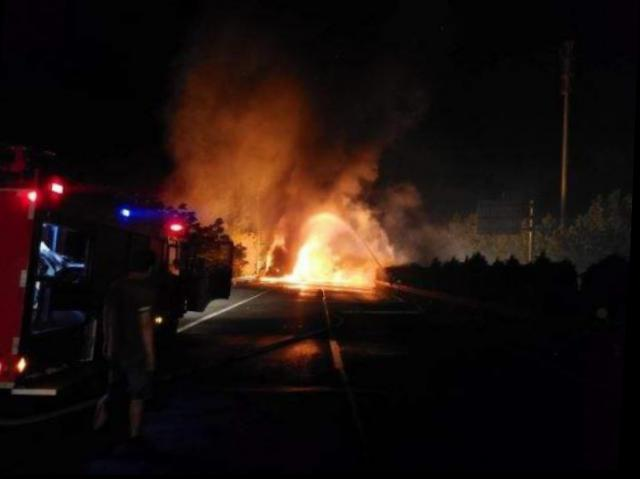fire: (266, 207, 394, 286)
